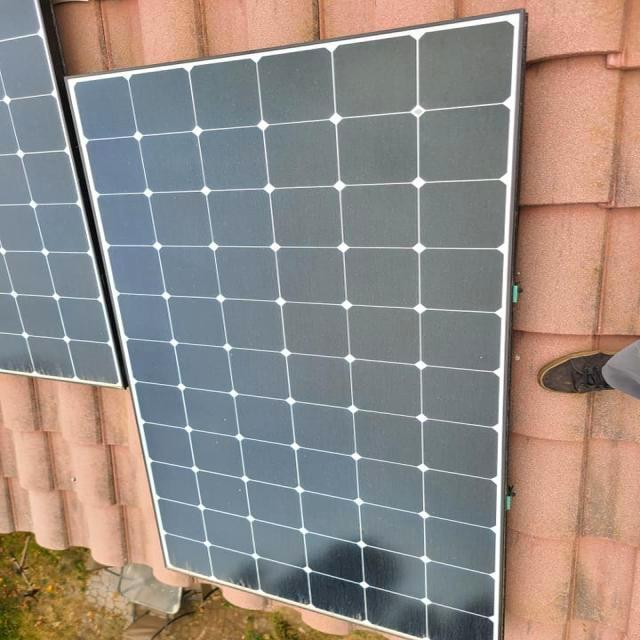no faulty: (109, 40, 528, 635), (0, 3, 118, 399)
